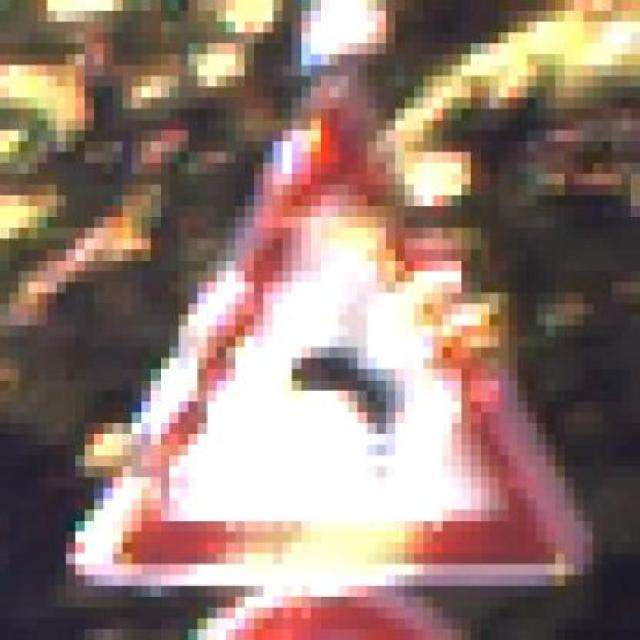Dangerous Left Curve Ahead: (65, 86, 593, 586)
